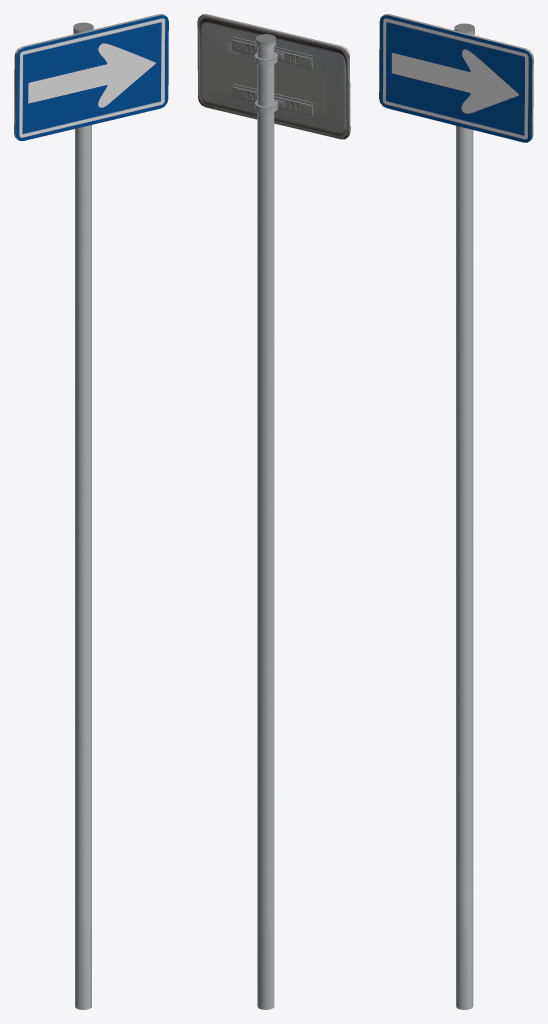
File: Preset_Sign326A.fbx
The picture shows the model from 3 angles, left to right: view 1: azimuth 30°, elevation 25°; view 2: azimuth 150°, elevation 25°; view 3: azimuth 330°, elevation 25°; orthographic projection.
Parts seen in each view (by area): view 1: Sign_PoleV, Sign_326A, Sign_Backface; view 2: Sign_PoleV, Sign_Backface, Sign_BackArm; view 3: Sign_PoleV, Sign_326A, Sign_Backface.
Boxes of the visible parts, box(x1,y1,x2,y2) form: Sign_PoleV: box(73, 22, 93, 1009); Sign_326A: box(15, 15, 168, 140); Sign_Backface: box(14, 14, 168, 138); Sign_PoleV: box(255, 34, 275, 1009); Sign_Backface: box(197, 14, 350, 139); Sign_BackArm: box(231, 37, 313, 116); Sign_PoleV: box(454, 23, 474, 1009); Sign_326A: box(379, 15, 532, 142); Sign_Backface: box(384, 14, 533, 140).
Size of the model in its own units: 49.65 by 8.29 by 304.
Materials: 4 (4 with a texture image).
